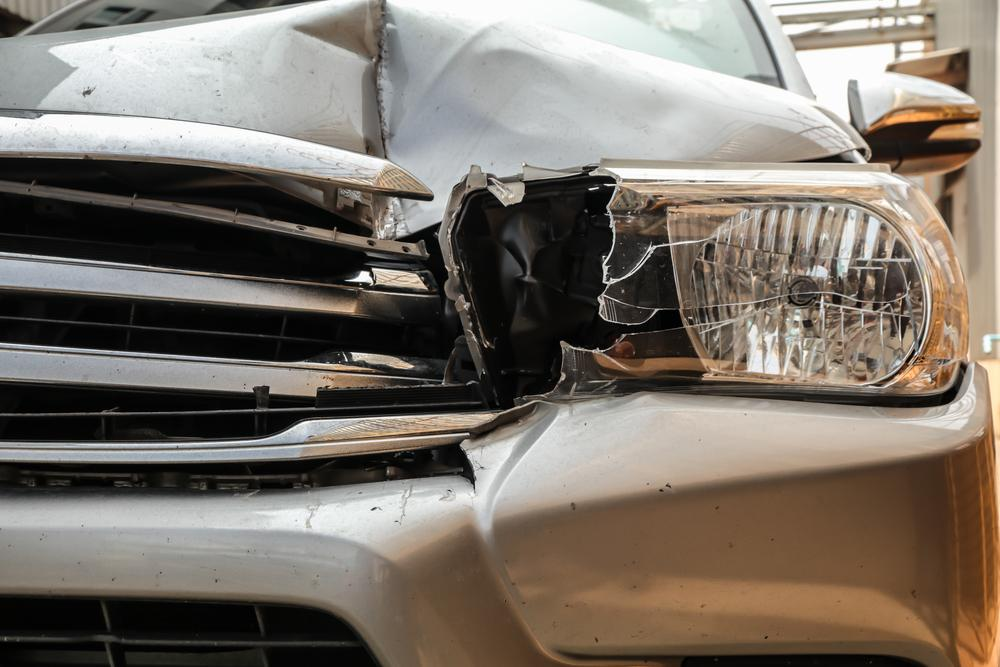crack: (459, 445, 477, 491)
dent: (286, 0, 690, 234)
lamp broken: (443, 156, 968, 404)
